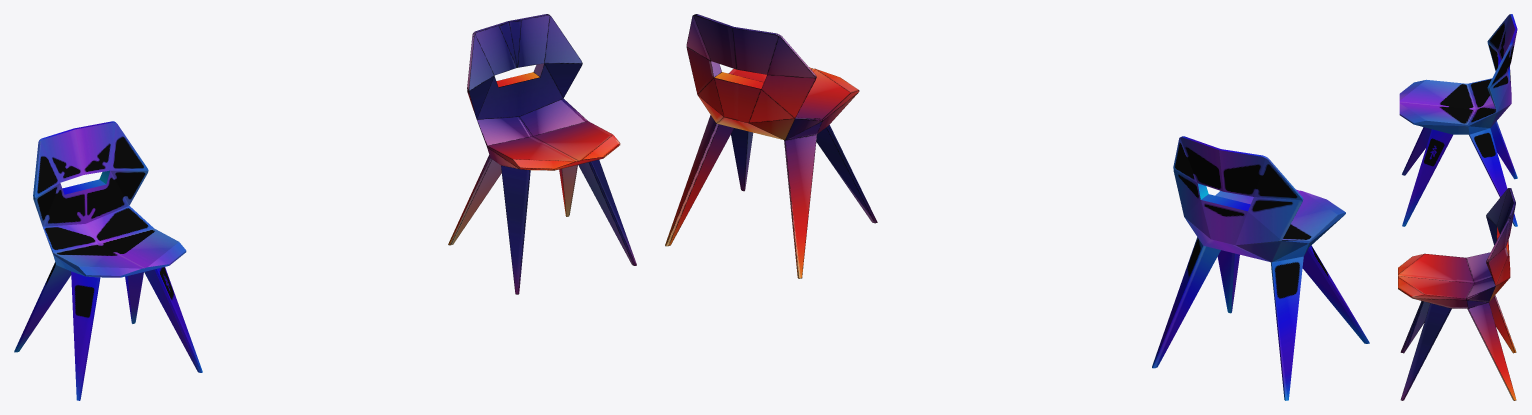
The picture shows the model from 3 angles, left to right: view 1: azimuth 30°, elevation 25°; view 2: azimuth 150°, elevation 25°; view 3: azimuth 270°, elevation 25°; orthographic projection. The views are drawn at different scales.
Visible parts, largest first — view 1: 11.002, test02.001; view 2: 11.002, test02.001; view 3: 11.002, test02.001.
Part boxes in pixels (x1,y1,x2,y2): 11.002: [448, 14, 636, 294]; test02.001: [14, 121, 202, 400]; 11.002: [665, 14, 877, 278]; test02.001: [1152, 136, 1369, 400]; 11.002: [1398, 188, 1516, 400]; test02.001: [1399, 14, 1517, 226].
Bounding box in the file's own units: 8.49 × 3.06 × 1.89.
2 materials, 2 textured.
